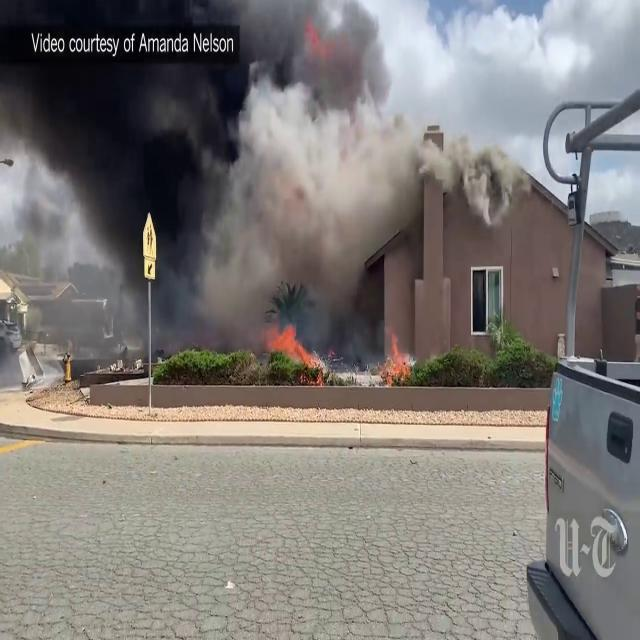Fire: (263, 319, 324, 377), (375, 334, 415, 387)
Smoke: (0, 0, 461, 364)
